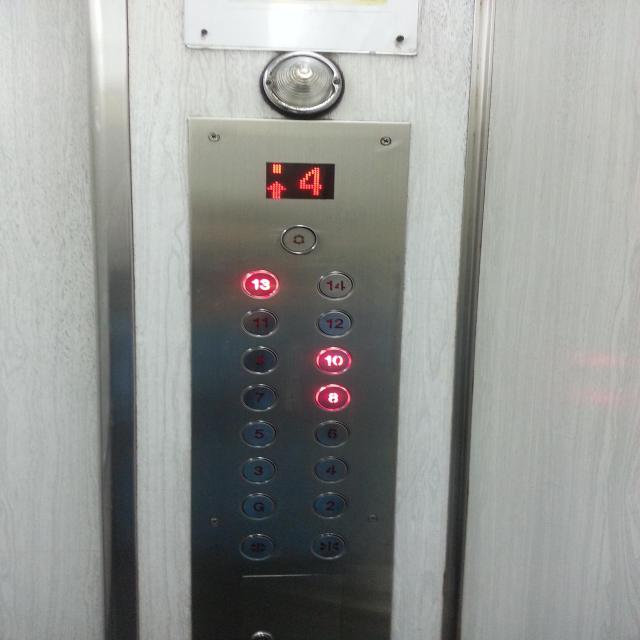10: (315, 347, 352, 374)
11: (241, 308, 279, 337)
12: (316, 309, 353, 337)
13: (242, 270, 278, 298)
14: (317, 270, 354, 299)
2: (312, 492, 348, 519)
3: (240, 457, 276, 484)
4: (313, 456, 348, 482)
5: (241, 420, 277, 447)
6: (314, 420, 350, 448)
7: (241, 383, 277, 411)
8: (315, 383, 350, 411)
9: (241, 346, 278, 375)
G: (240, 493, 277, 520)
alarm: (280, 224, 317, 254)
close: (311, 533, 346, 560)
led: (264, 159, 335, 200)
open: (239, 534, 275, 561)
unknown: (256, 47, 346, 118)
